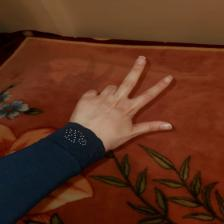three: (72, 54, 182, 158)
